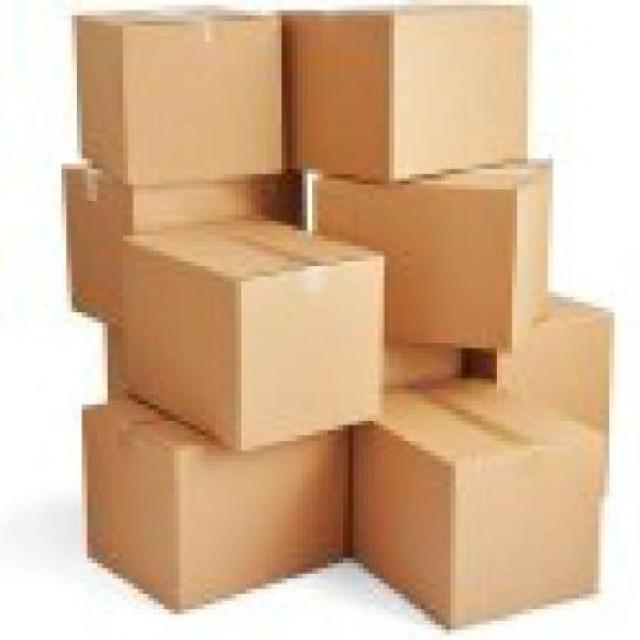box: (352, 376, 604, 635), (121, 213, 383, 451), (82, 397, 348, 623), (313, 150, 560, 351), (57, 155, 309, 331), (277, 11, 531, 181), (67, 12, 279, 180), (466, 287, 616, 501)
